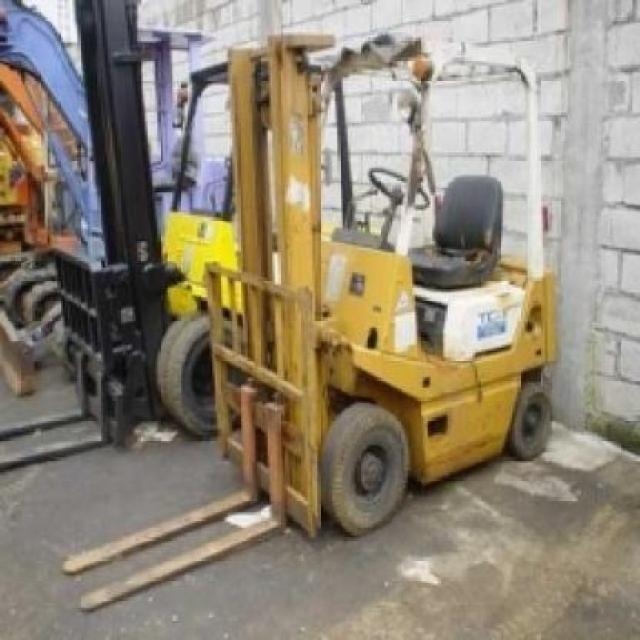forklift: (210, 27, 563, 546), (55, 3, 355, 460)
